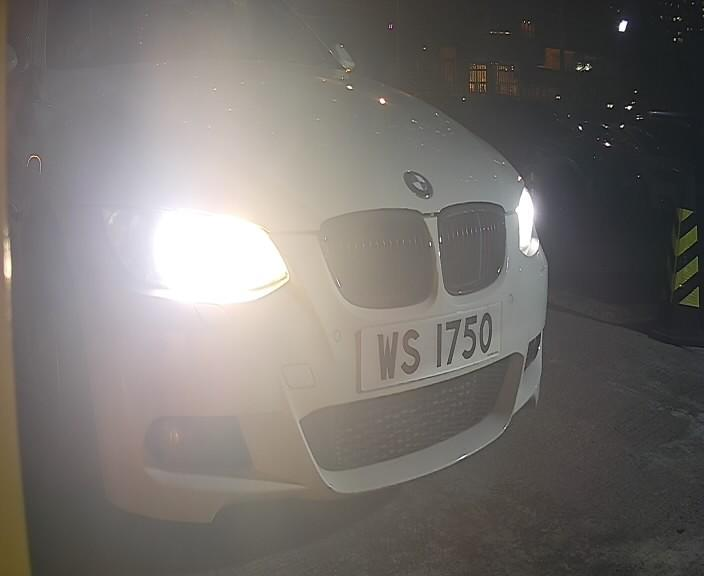License Plate: (345, 289, 513, 417)
